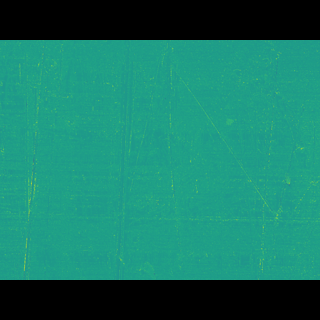Loch: (0, 78, 320, 234), (18, 73, 81, 249), (253, 83, 313, 240), (112, 71, 145, 250)
